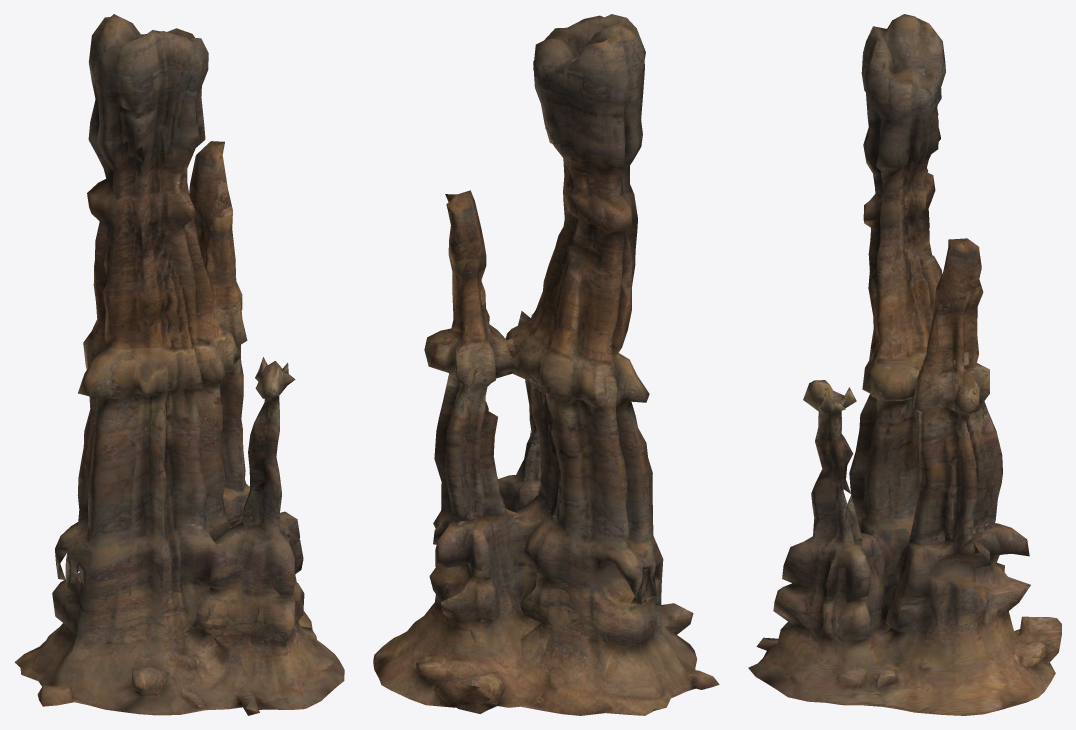
Rendered from b15_rock_spire_d.glb.
3 renders of one model, left to right at view 1: azimuth 30°, elevation 25°; view 2: azimuth 150°, elevation 25°; view 3: azimuth 270°, elevation 25°, orthographic. The views are drawn at different scales.
Visible parts, largest first — view 1: b15_rock_spire_d; view 2: b15_rock_spire_d; view 3: b15_rock_spire_d.
Boxes of the visible parts, x1,y1,x2,y2 form: b15_rock_spire_d: [14, 14, 344, 715]; b15_rock_spire_d: [373, 14, 719, 715]; b15_rock_spire_d: [748, 14, 1061, 715].
Bounding box in the file's own units: 0.9931 × 2.11 × 0.9887.
1 material, 1 textured.
